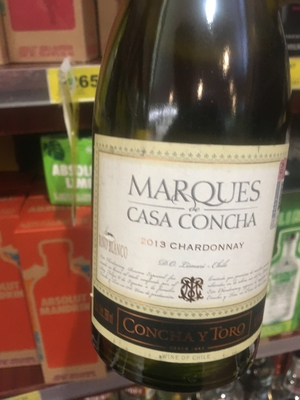marques de casa concha chardonnay: (82, 22, 293, 384)
